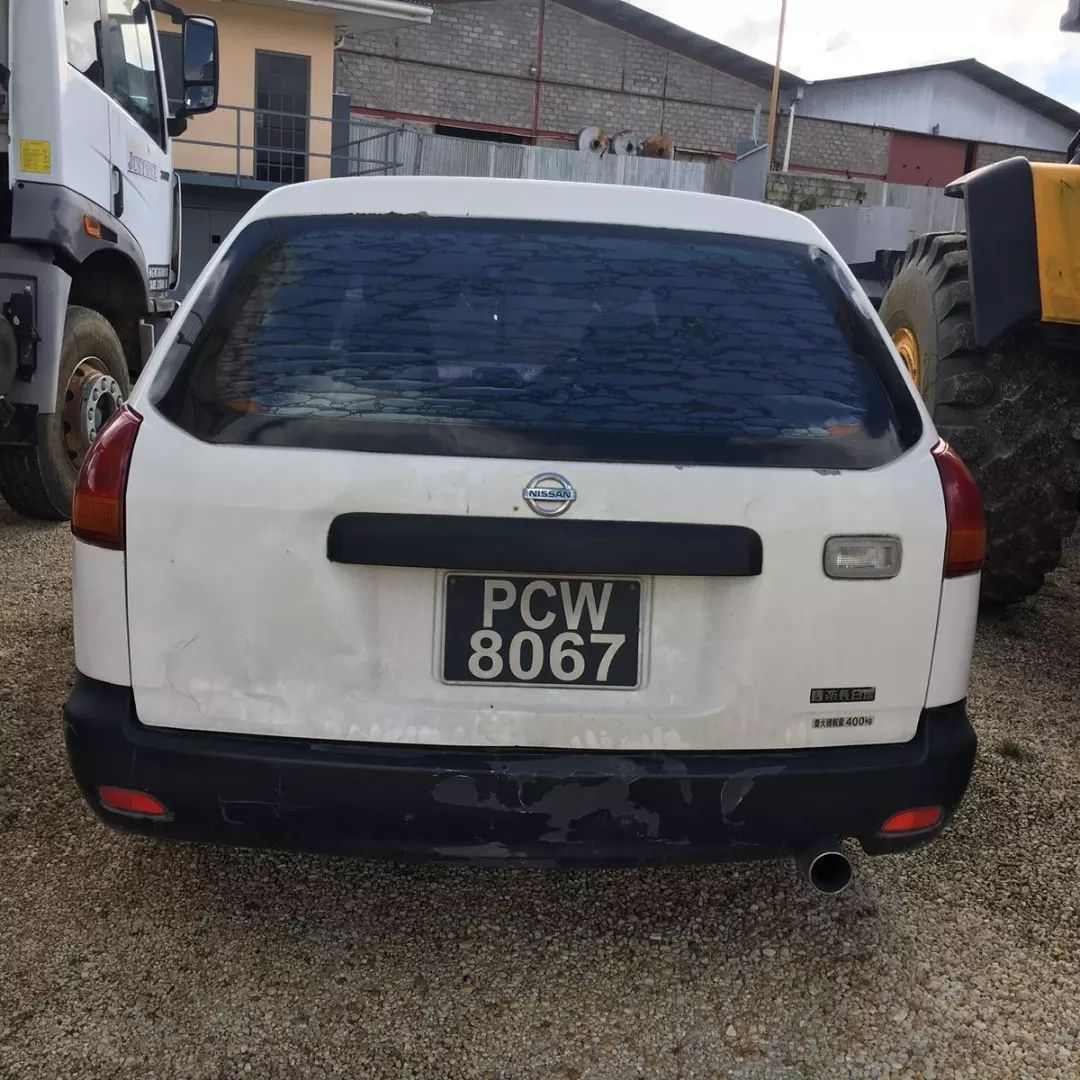License-Plate: (447, 574, 641, 681)
